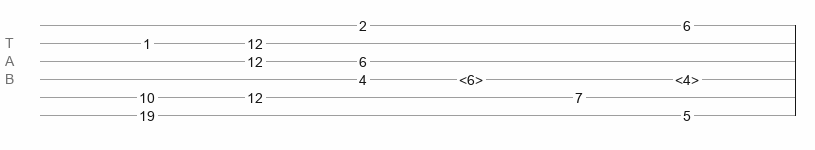1: (143, 36, 151, 46)
10: (139, 90, 155, 100)
12: (247, 90, 263, 100), (247, 54, 263, 64), (247, 36, 263, 46)
19: (139, 108, 155, 118)
2: (359, 18, 367, 28)
4: (359, 72, 367, 82)
5: (683, 108, 691, 118)
6: (359, 54, 367, 64), (683, 18, 691, 28)
7: (575, 90, 583, 100)
harmonic: (459, 72, 483, 82), (675, 72, 699, 82)
